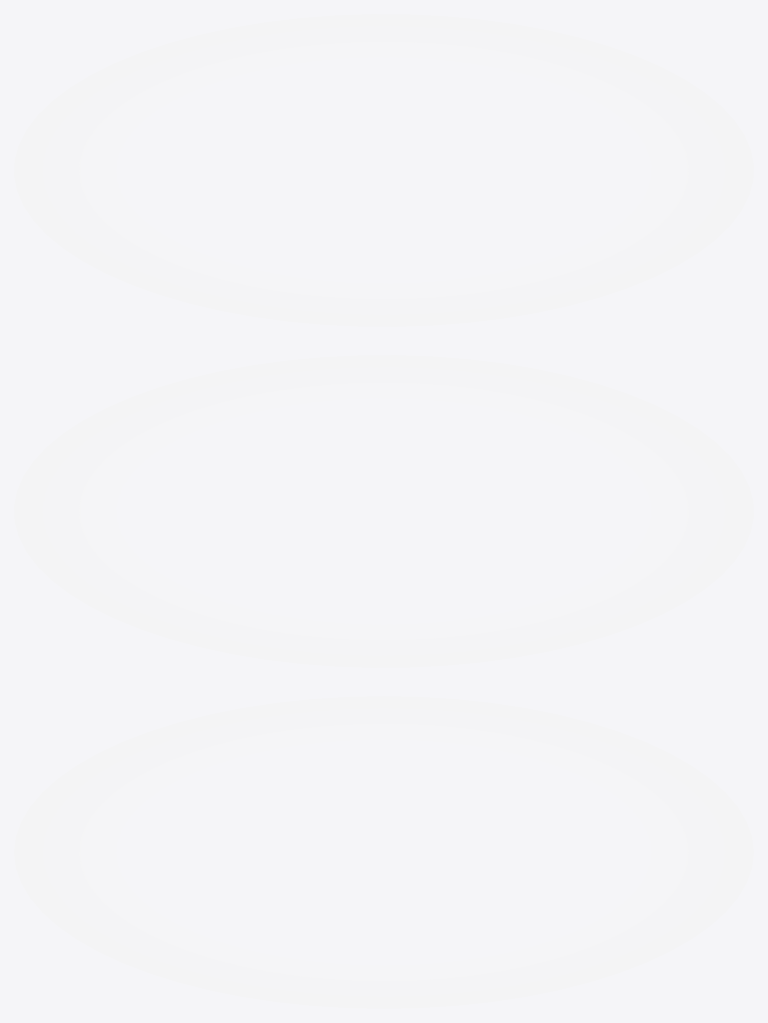
Rendered from radarCircle.gltf.
3 renders of one model, top to bottom at view 1: azimuth 30°, elevation 25°; view 2: azimuth 150°, elevation 25°; view 3: azimuth 270°, elevation 25°, orthographic.
Parts seen in each view (by area): view 1: 圆环; view 2: 圆环; view 3: 圆环.
Boxes of the visible parts, <box> form: 圆环: <box>14,14,753,326</box>; 圆环: <box>14,355,753,667</box>; 圆环: <box>14,696,753,1008</box>.
Bounding box in the file's own units: 1.99 × 0 × 1.99.
Materials: 1 (1 with a texture image).
